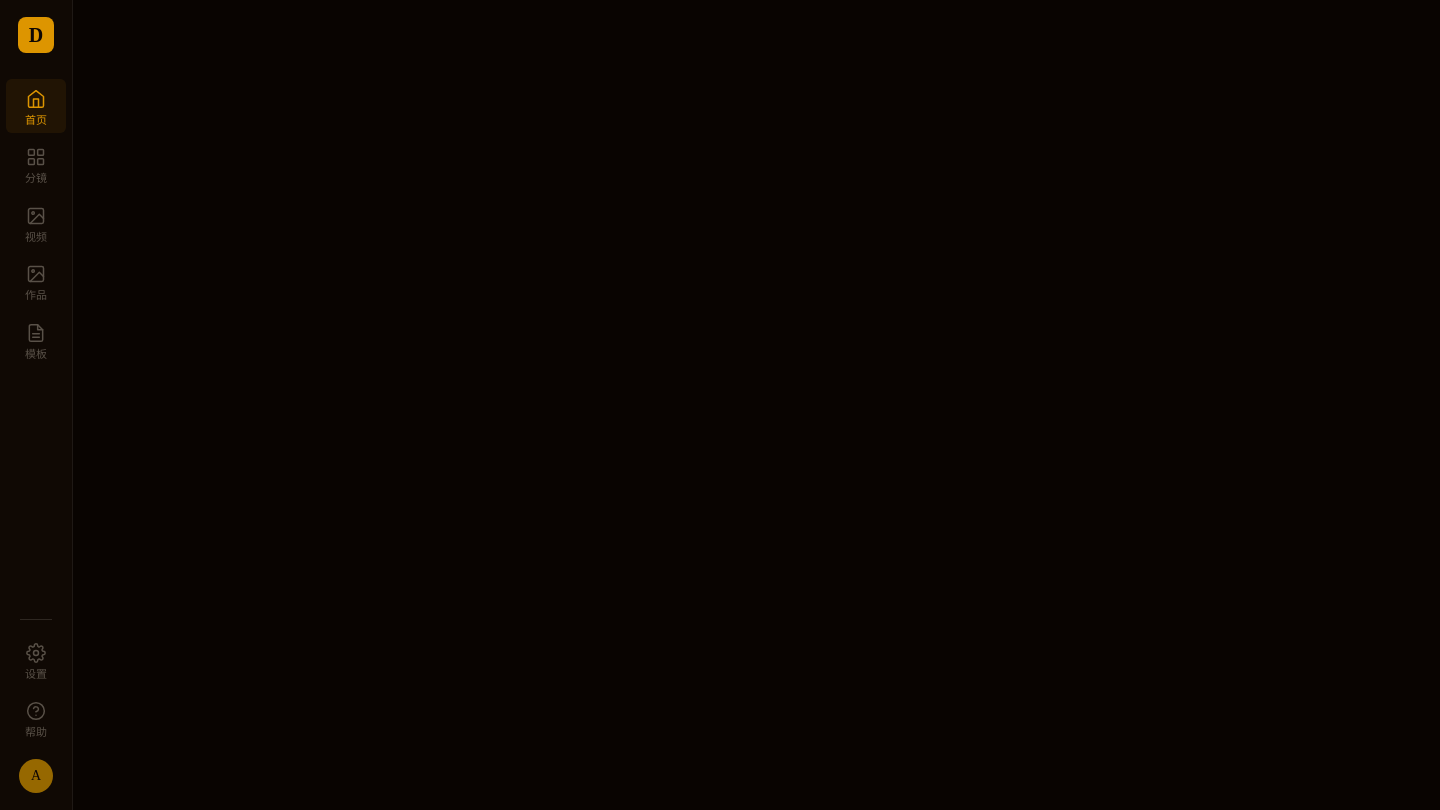
Test case: 侧边栏组件认证集成测试 › 用户菜单外部点击关闭 › 点击外部区域关闭用户菜单
Step 1. Click the text titled "个人中心" → (36, 776), box x1=19 y1=759 x2=53 y2=793
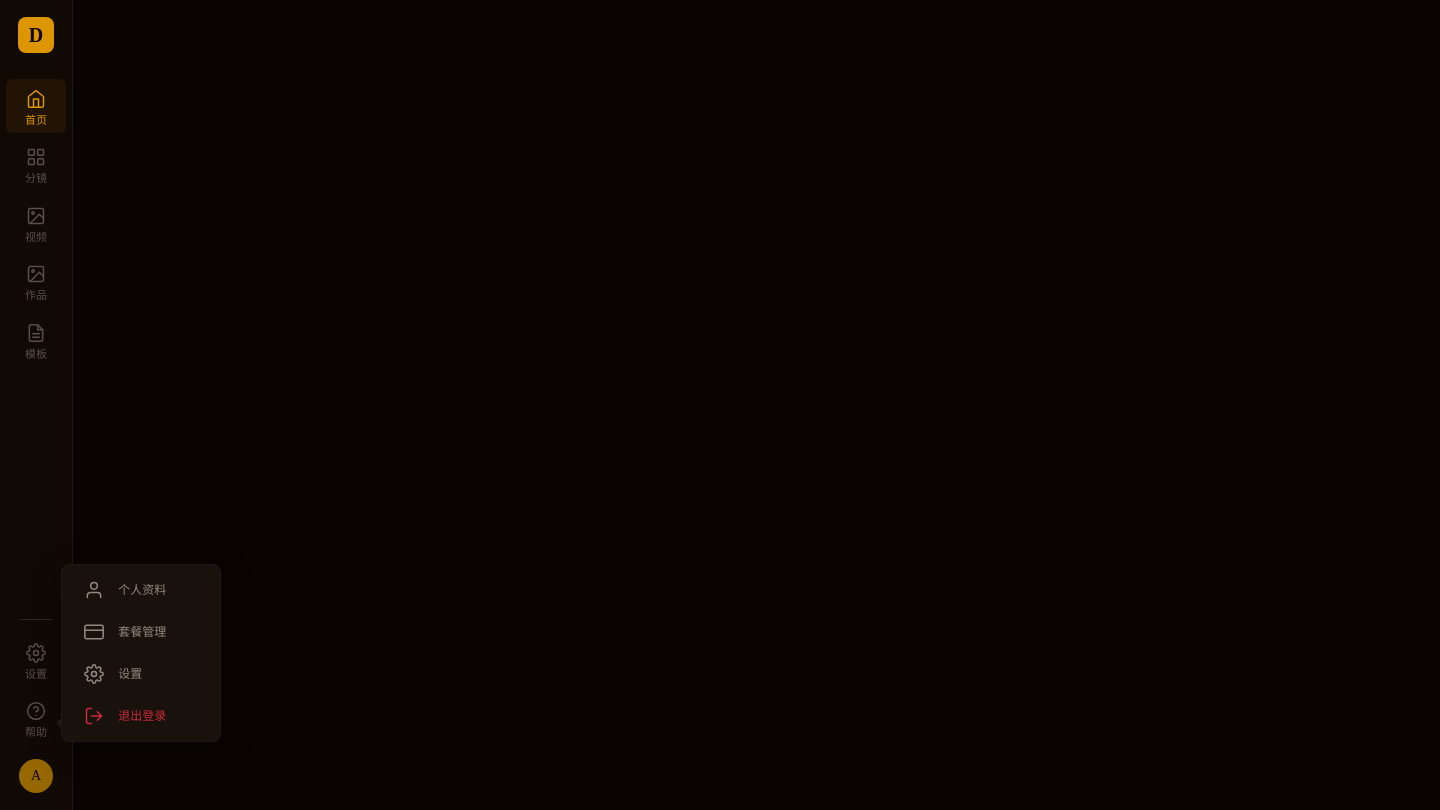
expect the text "个人资料" is shown: met, box x1=118 y1=581 x2=166 y2=599
Step 2. Click the element with class "z-40" → (720, 405), box x1=0 y1=0 x2=1439 y2=809
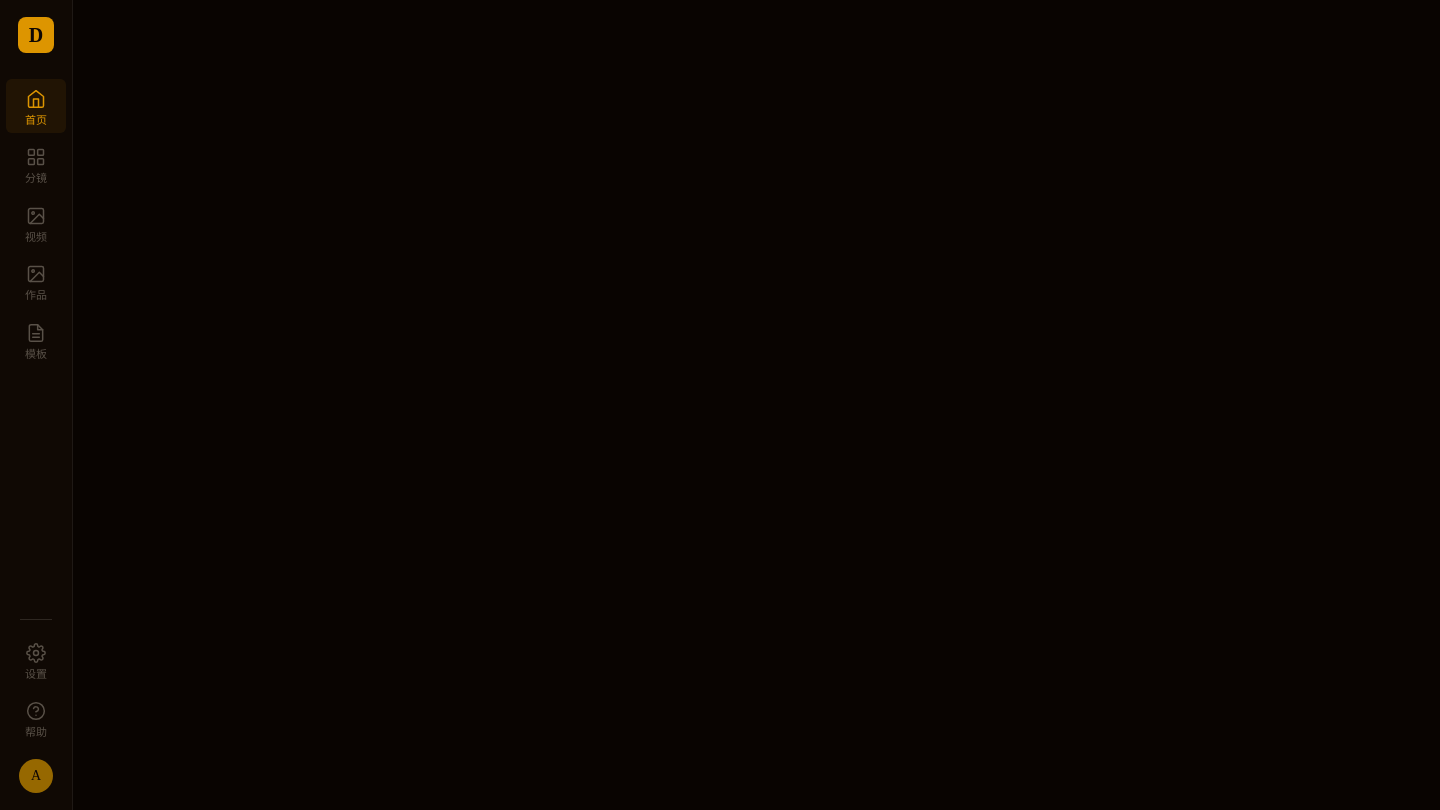
expect the button "个人资料" is gone: met
